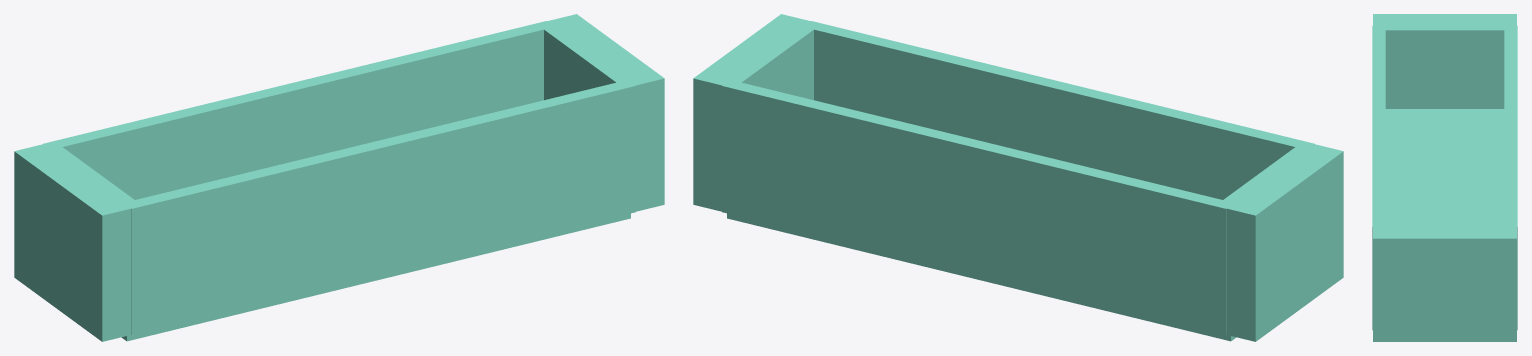
3 renders of one model, left to right at view 1: azimuth 30°, elevation 25°; view 2: azimuth 150°, elevation 25°; view 3: azimuth 270°, elevation 25°, orthographic. The views are drawn at different scales.
Visible parts, largest first — view 1: Bin end, Bin end.001, Bin side, Bin side.001, Bin bottom; view 2: Bin end.001, Bin end, Bin side, Bin side.001, Bin bottom; view 3: Bin side.001, Bin bottom, Bin side, Bin end.001, Bin end.
Boxes of the visible parts, left/top/right/bottom form: Bin end: left=124, top=82, right=635, bottom=334; Bin end.001: left=43, top=21, right=554, bottom=199; Bin side: left=14, top=144, right=142, bottom=341; Bin side.001: left=544, top=14, right=664, bottom=211; Bin bottom: left=121, top=213, right=630, bottom=341; Bin end.001: left=722, top=80, right=1233, bottom=334; Bin end: left=810, top=21, right=1314, bottom=199; Bin side: left=1223, top=141, right=1343, bottom=341; Bin side.001: left=693, top=14, right=821, bottom=211; Bin bottom: left=727, top=213, right=1236, bottom=341; Bin side.001: left=1373, top=222, right=1516, bottom=341; Bin bottom: left=1385, top=109, right=1504, bottom=222; Bin side: left=1373, top=14, right=1516, bottom=108; Bin end.001: left=1504, top=25, right=1517, bottom=330; Bin end: left=1372, top=25, right=1385, bottom=330.
Bounding box in the file's own units: 106 × 24.6 × 29.1.
